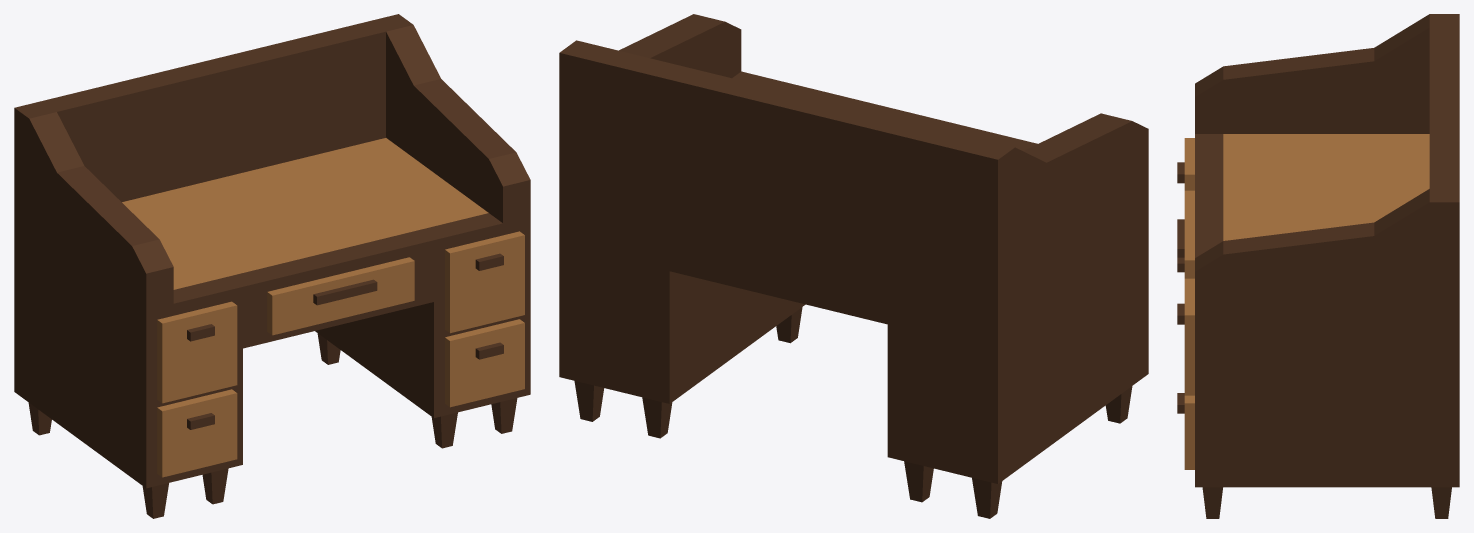
File: deskj.glb
The picture shows the model from 3 angles, left to right: view 1: azimuth 30°, elevation 25°; view 2: azimuth 150°, elevation 25°; view 3: azimuth 270°, elevation 25°; orthographic projection. The views are drawn at different scales.
Visible parts, largest first — view 1: Desk; view 2: Desk; view 3: Desk.
Part boxes in pixels (x1,y1,x2,y2): Desk: (14,14,530,518); Desk: (559,14,1148,518); Desk: (1177,14,1459,518).
Size of the model in its own units: 1.76 by 1.41 by 1.12.
1 material, 1 textured.
